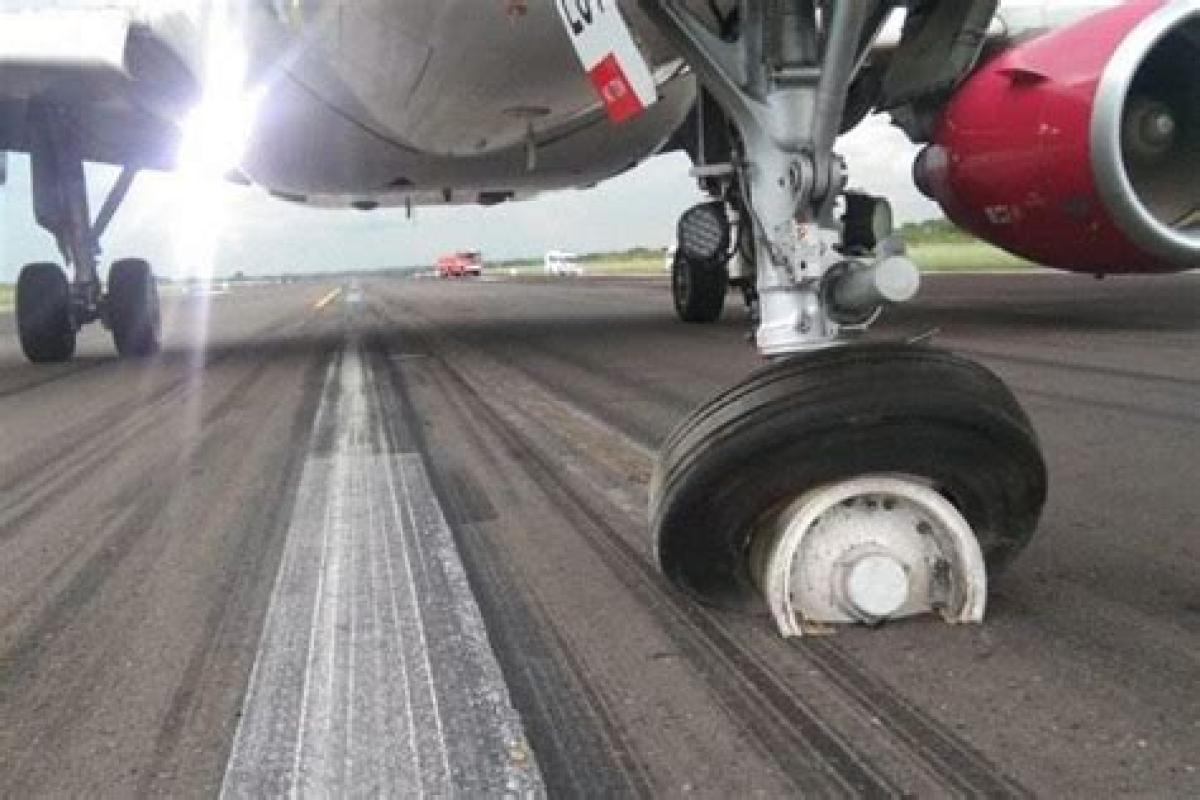Fuselage_damage: (751, 461, 1014, 641)
